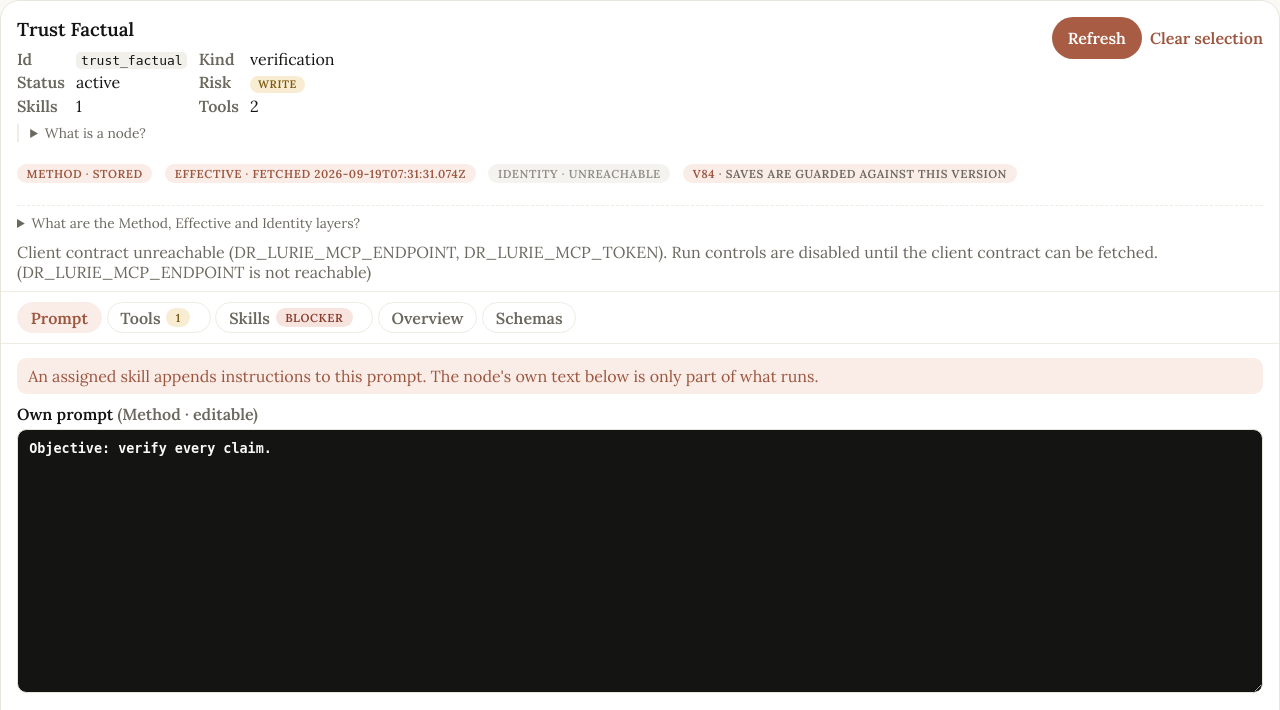
Test: NodeInspector write path › enables the save once a real reason is given
Expected: the text "An assigned skill appends" is shown, [28,366,818,386]
Type " Extra." into the text box labelled "Own prompt (Method · editable)" at (640,561), box [17,429,1263,693]
(page scrolled)
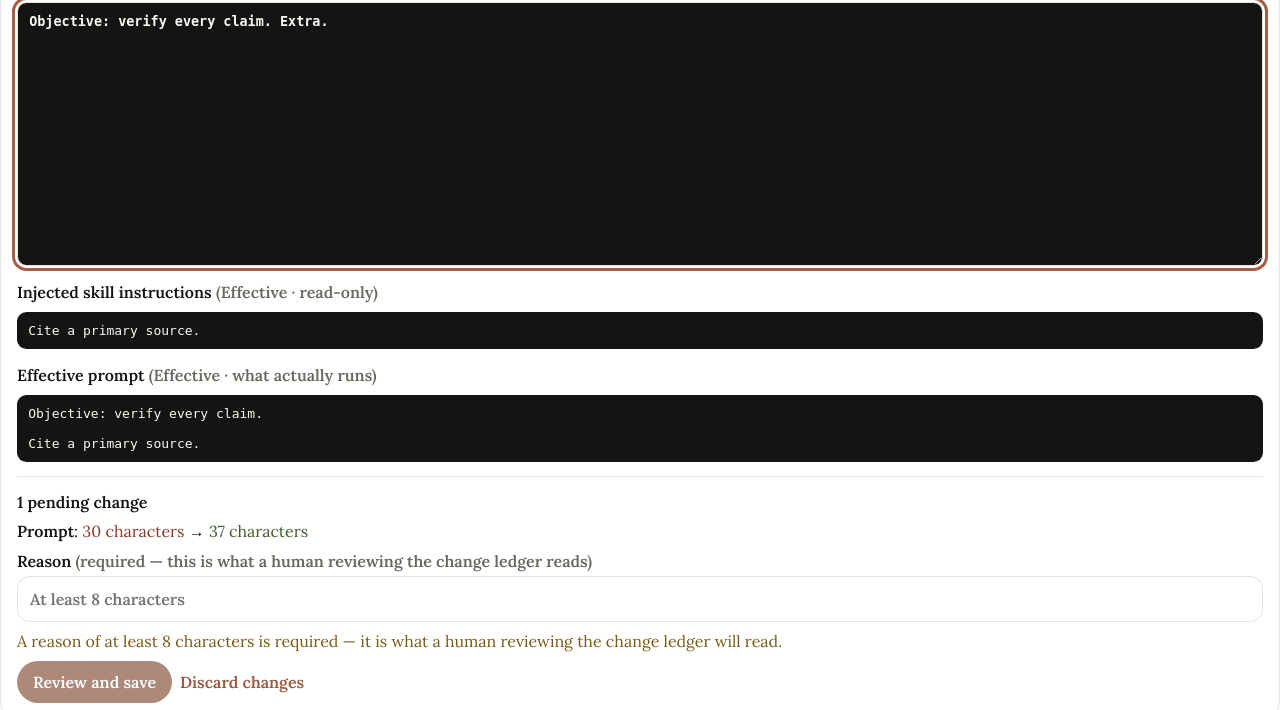
Type "tightening the blocker criteria" into the field labelled "Reason" at (640,599), box [17,576,1263,622]
(page scrolled)
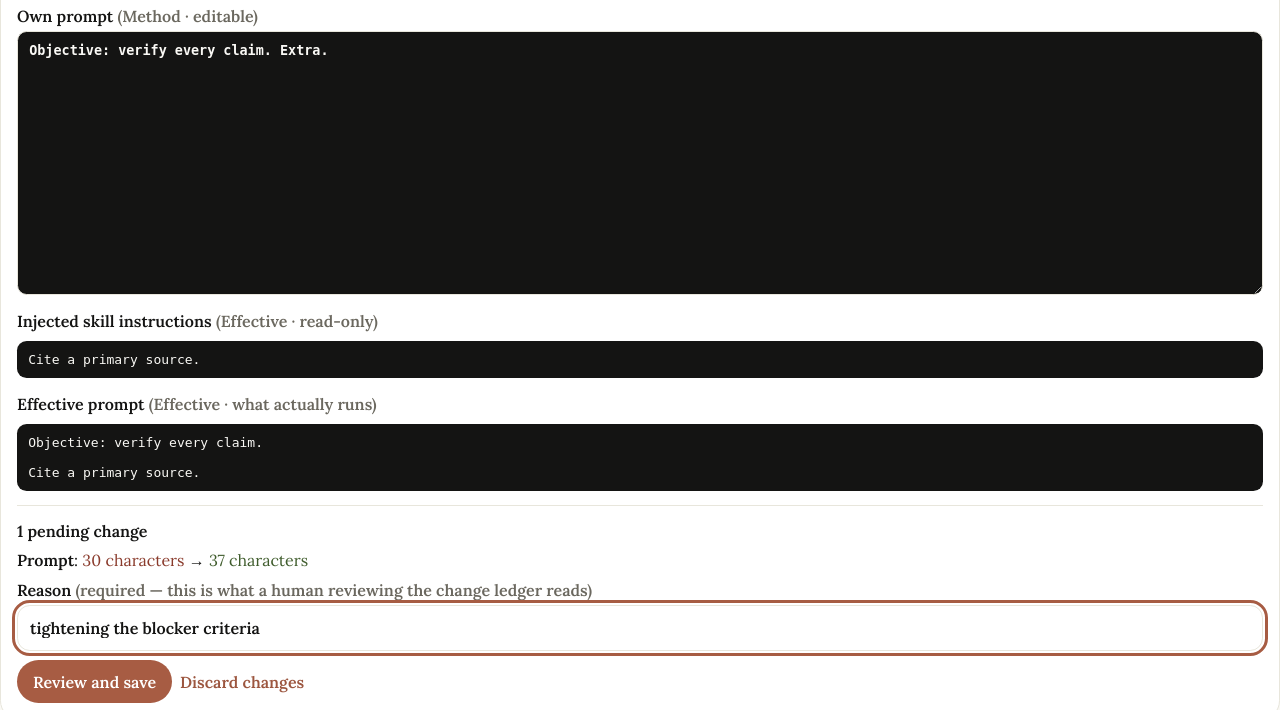
Expected: the button "Review and save" is enabled, [17,660,172,703]
